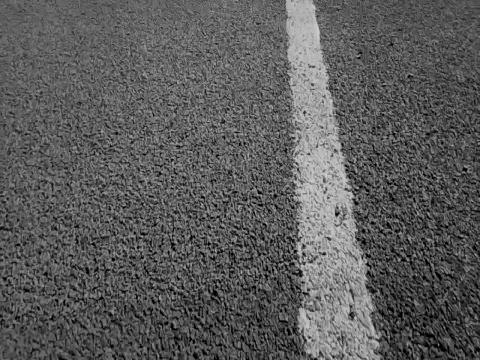Lines: (284, 0, 383, 360)
